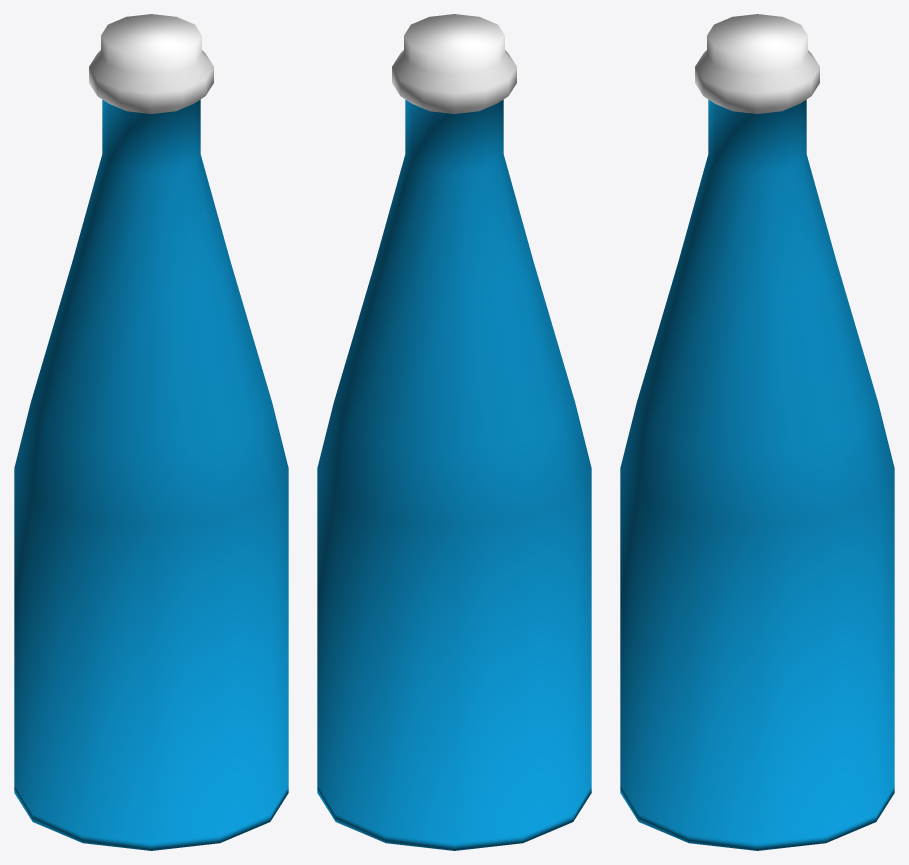
The model's file is Botella.fbx.
3 renders of one model, left to right at view 1: azimuth 30°, elevation 25°; view 2: azimuth 150°, elevation 25°; view 3: azimuth 270°, elevation 25°, orthographic.
Visible parts, largest first — view 1: Cylinder; view 2: Cylinder; view 3: Cylinder.
Boxes of the visible parts, x1=… form: Cylinder: x1=14, y1=14, x2=288, y2=850; Cylinder: x1=317, y1=14, x2=591, y2=850; Cylinder: x1=620, y1=14, x2=894, y2=850.
Bounding box in the file's own units: 36.41 × 111 × 36.41.
1 material, 1 textured.
